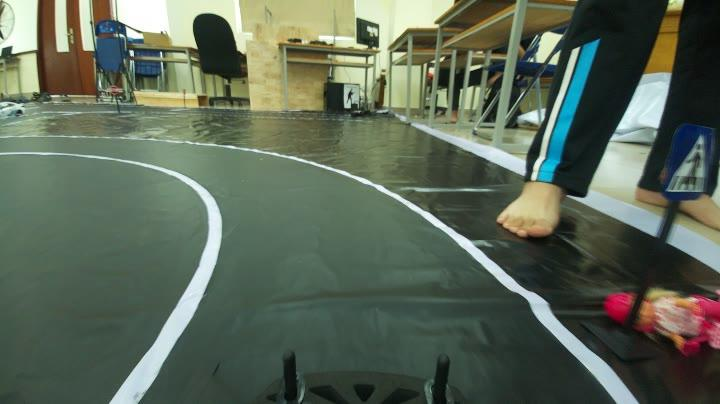crosswalk: (660, 118, 714, 201)
